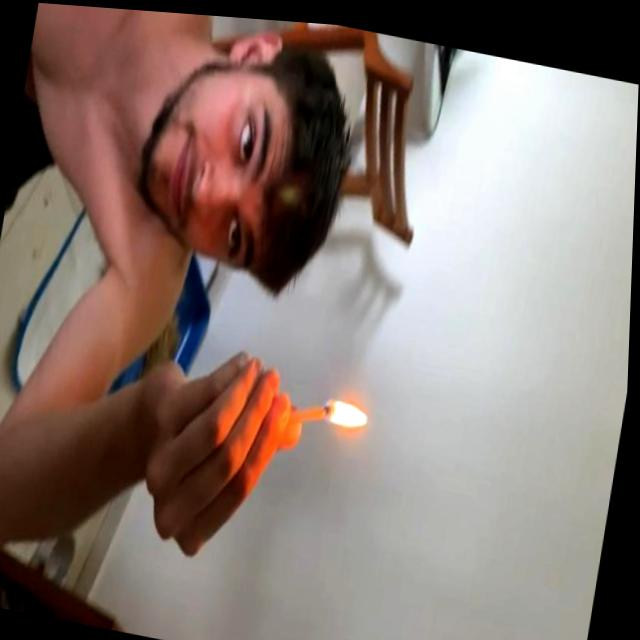Fire: (321, 385, 373, 433)
